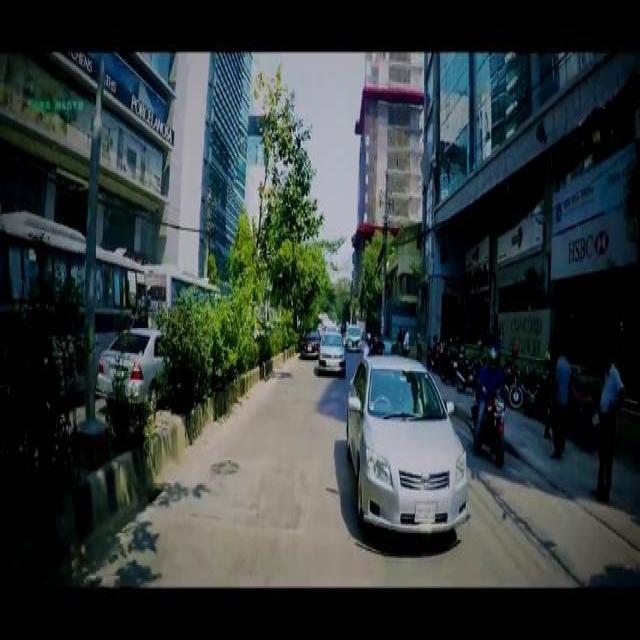10: (468, 388, 506, 466), (523, 366, 549, 413), (502, 361, 522, 407), (456, 354, 480, 386), (439, 348, 461, 378)
5: (344, 354, 466, 536), (96, 328, 170, 408), (317, 330, 345, 371), (300, 325, 318, 354)
9: (345, 323, 361, 349)
Truck: (6, 210, 148, 384), (143, 262, 219, 326)
